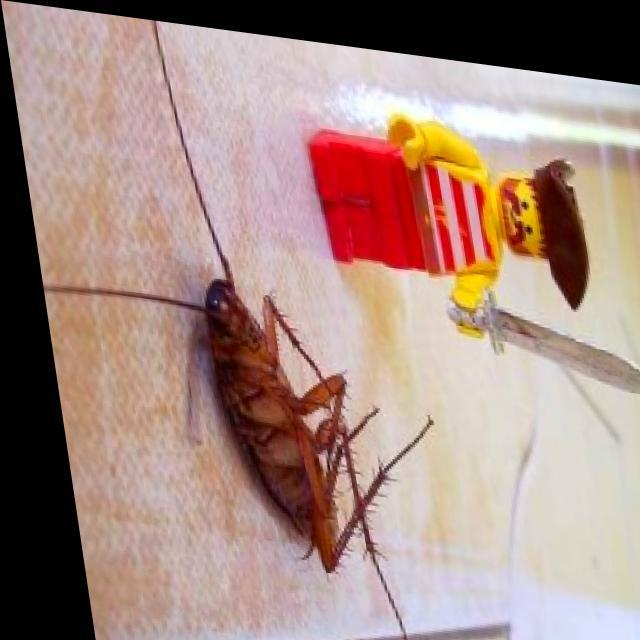cockroach: (171, 234, 403, 577)
